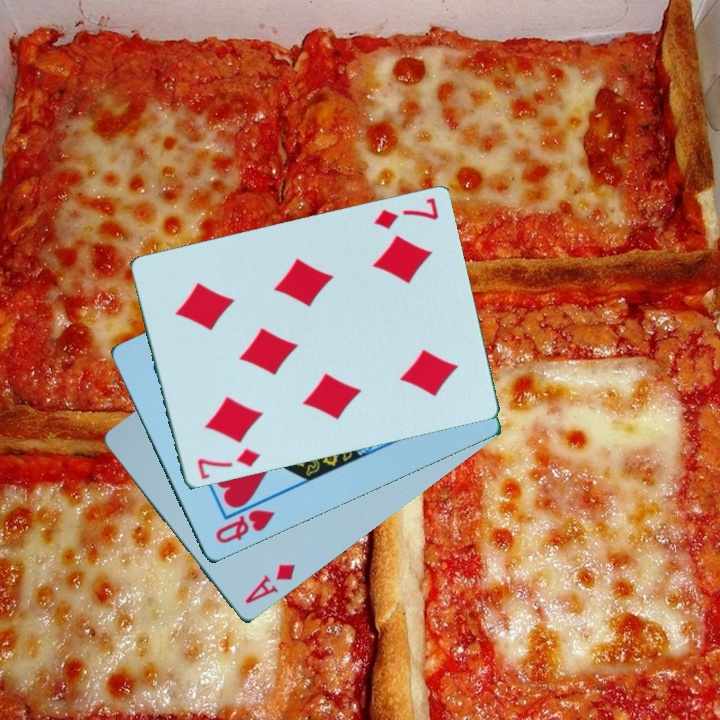7d: (370, 194, 441, 233), (193, 445, 263, 483)
Ad: (241, 560, 299, 608)
Qh: (211, 506, 278, 547)
